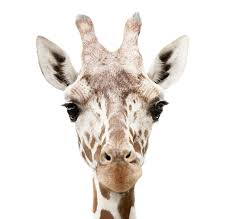Jirafa: (19, 15, 202, 204)
